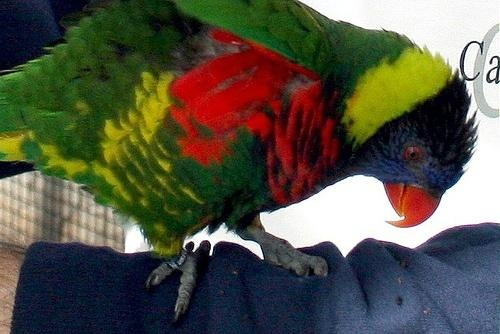bird: (2, 2, 481, 325)
